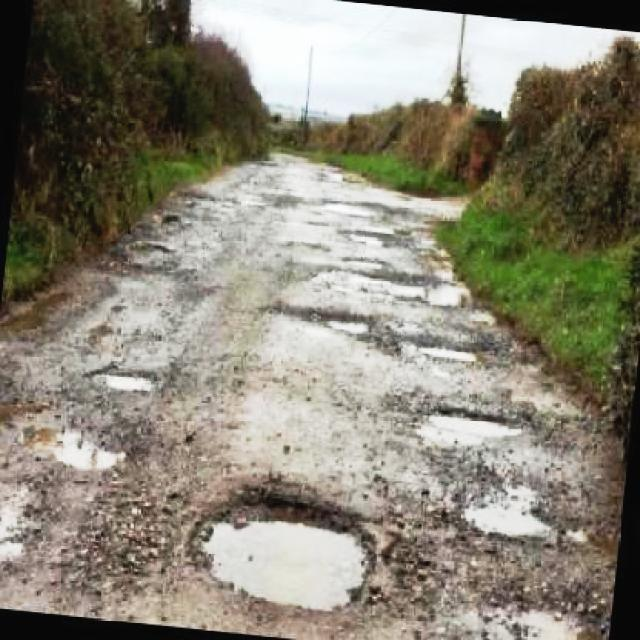pothole: (186, 477, 382, 625), (463, 577, 612, 640), (446, 469, 562, 548), (25, 411, 129, 475), (300, 303, 400, 359), (0, 486, 72, 561), (417, 405, 531, 452), (363, 262, 469, 310), (408, 331, 506, 372), (97, 364, 160, 396), (349, 224, 397, 250)
